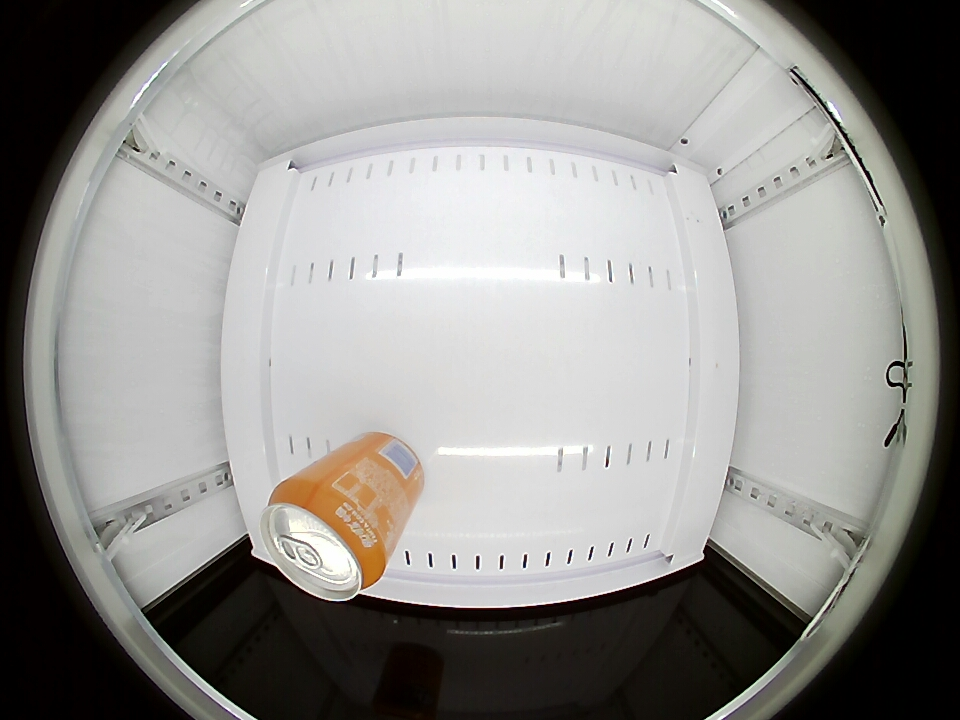fenda: (258, 475, 390, 601)
